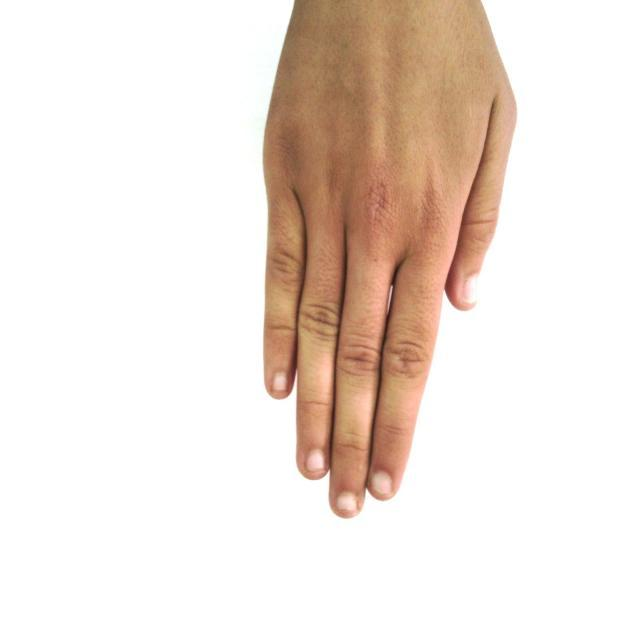Fingernail: (306, 450, 326, 471), (373, 471, 391, 494), (464, 275, 478, 303), (337, 492, 357, 509), (272, 372, 287, 390)
